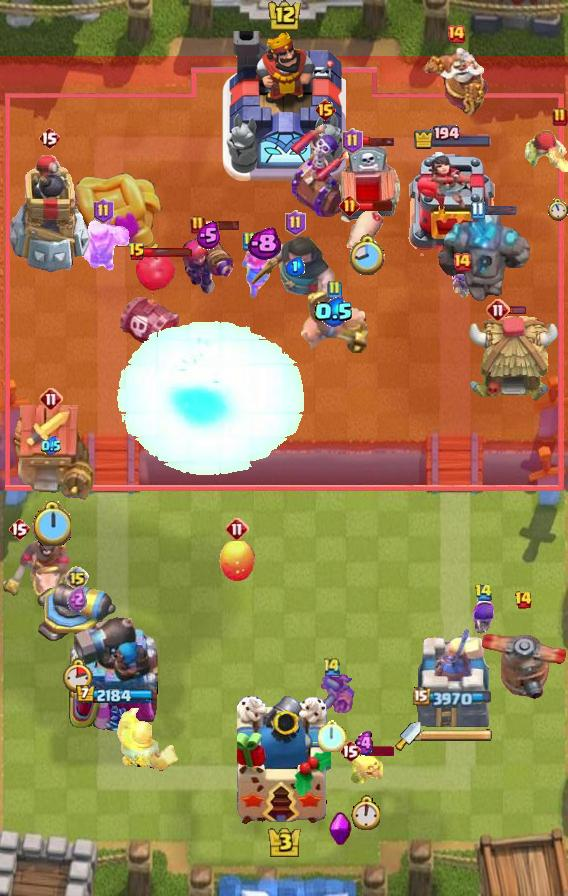arrows: (77, 215, 132, 272)
bar: (414, 623, 492, 731)
bat-evolution: (345, 750, 385, 784)
cannoneer-tower: (438, 207, 534, 305)
dark-prince: (479, 615, 567, 699)
electro-spirit: (314, 297, 354, 327), (247, 227, 281, 261), (195, 222, 220, 251), (353, 731, 377, 756), (67, 586, 87, 612), (41, 436, 61, 456), (287, 257, 306, 277)
elixir: (32, 501, 71, 546), (350, 234, 386, 277), (63, 658, 93, 693), (350, 795, 380, 829), (318, 720, 346, 753), (548, 198, 568, 222)
elixir-collector: (420, 47, 492, 123)
elixir-golem-mid: (333, 145, 403, 231)
emote: (143, 246, 193, 258), (358, 200, 395, 213), (203, 219, 241, 231), (360, 135, 396, 147), (482, 204, 518, 216), (358, 746, 394, 756), (509, 305, 528, 315)
firecracker: (116, 708, 179, 772)
freeze: (0, 532, 72, 600), (297, 289, 371, 353)
giant: (341, 207, 387, 259)
giant-snowball: (308, 672, 356, 714)
goblin: (446, 263, 478, 303), (472, 599, 497, 635)
hog: (217, 539, 257, 583)
hog-rider: (240, 246, 288, 300)
ice-golem: (522, 130, 568, 172)
king-tower: (222, 31, 346, 181), (237, 696, 331, 826)
king-tower-bar: (421, 729, 493, 743)
mega-knight: (111, 317, 308, 478)
mega-minion: (181, 222, 235, 296)
prince: (465, 314, 559, 404)
queen-tower: (408, 152, 498, 256)
royal-hog: (249, 231, 341, 303)
royal-recruit: (36, 581, 118, 651)
royal-recruit-evolution: (116, 250, 182, 354)
selected: (413, 126, 493, 151), (414, 687, 495, 709), (75, 685, 153, 705)
skeleton-king-bar: (290, 121, 360, 221)
skeleton-king-skill: (328, 812, 352, 848)
sparky: (8, 404, 94, 502)
text: (486, 298, 510, 322), (39, 387, 63, 411), (225, 517, 249, 541), (65, 566, 89, 590), (315, 98, 338, 122), (341, 128, 362, 154), (94, 198, 115, 224), (286, 210, 307, 236), (38, 126, 60, 150), (8, 517, 30, 541), (339, 739, 361, 763), (339, 196, 360, 217), (322, 656, 342, 677), (446, 24, 466, 44), (452, 252, 472, 272), (514, 590, 533, 610), (475, 582, 494, 601), (128, 242, 146, 262), (552, 107, 568, 127), (190, 215, 206, 235), (241, 231, 257, 251), (326, 280, 342, 300), (470, 201, 485, 219)
tower-bar: (68, 611, 160, 731)
zappy: (7, 152, 92, 276)
